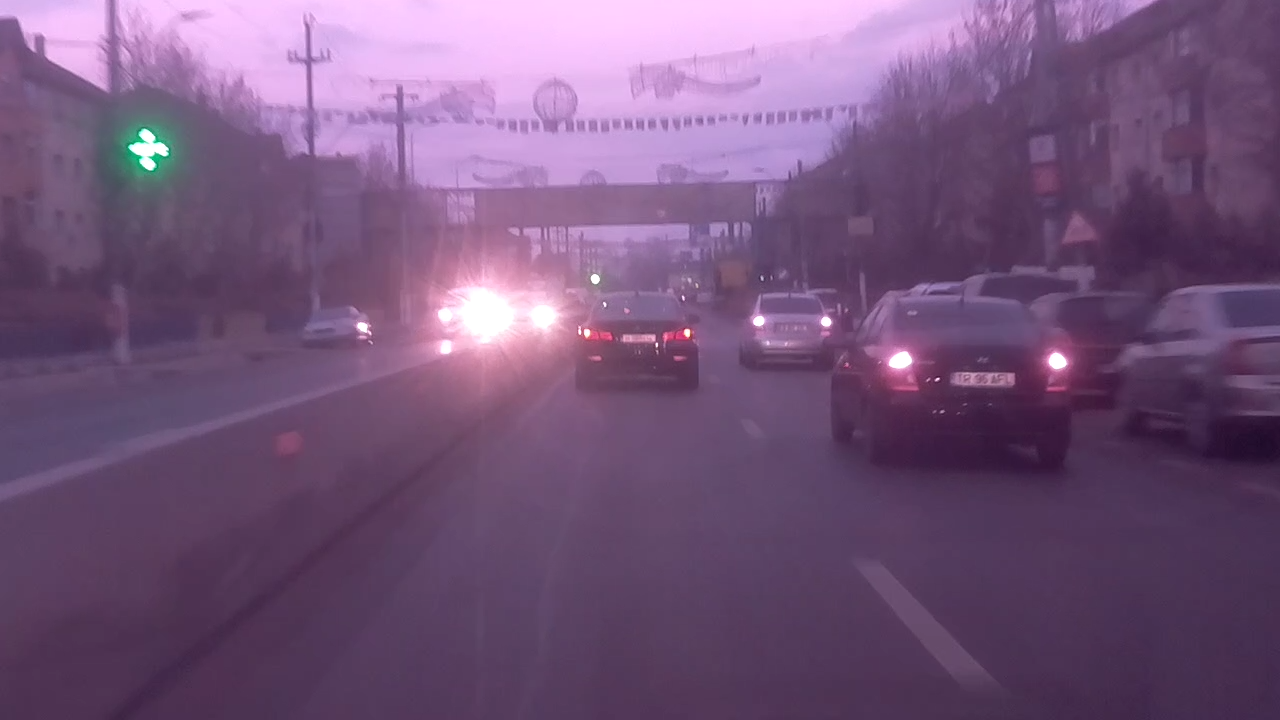license-plate: (947, 369, 1018, 389)
